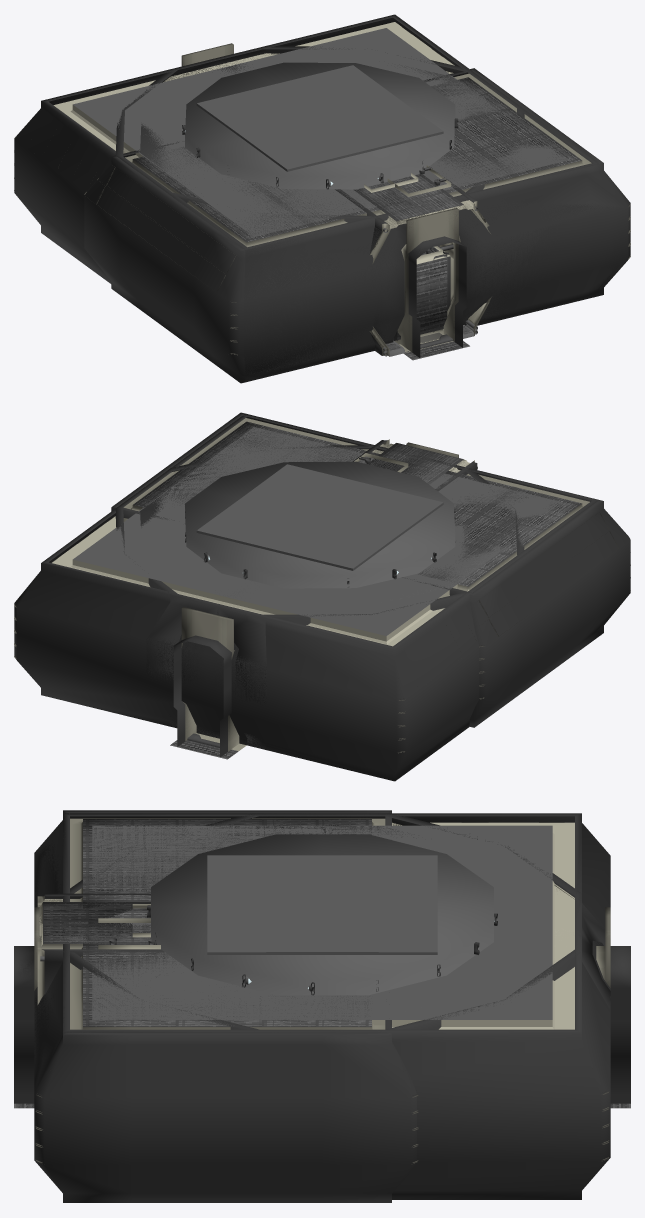
File: HallwayPACK_EXTRAS_GLB.glb
3 views of the same model, one above another, from view 1: azimuth 30°, elevation 25°; view 2: azimuth 150°, elevation 25°; view 3: azimuth 270°, elevation 25° (orthographic). The views are drawn at different scales.
Parts seen in each view (by area): view 1: Room_Big_Square, Room_Medium_L, Room_Medium_R, Room_Big_Round_TwoDoor, Hall_Ladder_UP, Hall_Ladder_Up_End, Hall_Ladder_Middle, MiddleLadder.002, Room_Big_Round, Hall_Ladder_Down; view 2: Room_Big_Square, Room_Big_Round_TwoDoor, Room_Medium_L, Room_Medium_R, Room_Big_Round, Hall_Ladder_UP, Hall_Ladder_Up_End, MiddleLadder.002; view 3: Room_Big_Square, Room_Medium_R, Room_Big_Round_TwoDoor, Room_Medium_L, Hall_Ladder_Up_End, Hall_Ladder_UP, Room_Big_Round.
Part boxes in pixels (x1,y1,x2,y2): Room_Big_Square: (14, 14, 623, 382); Room_Medium_L: (84, 141, 493, 383); Room_Medium_R: (359, 68, 630, 346); Room_Big_Round_TwoDoor: (115, 43, 524, 357); Hall_Ladder_UP: (340, 165, 491, 356); Hall_Ladder_Up_End: (337, 173, 489, 356); Hall_Ladder_Middle: (393, 246, 450, 340); MiddleLadder.002: (356, 174, 478, 349); Room_Big_Round: (118, 48, 492, 199); Hall_Ladder_Down: (335, 181, 489, 346); Room_Big_Square: (14, 413, 598, 781); Room_Big_Round_TwoDoor: (115, 444, 524, 759); Room_Medium_L: (360, 446, 630, 727); Room_Medium_R: (111, 412, 467, 520); Room_Big_Round: (115, 469, 486, 745); Hall_Ladder_UP: (353, 439, 477, 489); Hall_Ladder_Up_End: (353, 440, 474, 483); MiddleLadder.002: (379, 443, 463, 483); Room_Big_Square: (14, 813, 610, 1199); Room_Medium_R: (14, 896, 418, 1202); Room_Big_Round_TwoDoor: (14, 813, 630, 1108); Room_Medium_L: (14, 810, 391, 1107); Hall_Ladder_Up_End: (37, 896, 150, 1004); Hall_Ladder_UP: (37, 899, 164, 997); Room_Big_Round: (250, 813, 609, 1032).
Size of the model in its own units: 24.87 by 8.88 by 26.
3 materials, 3 textured.
